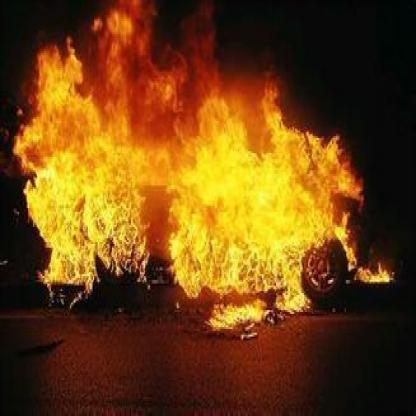fire: (2, 2, 400, 331)
